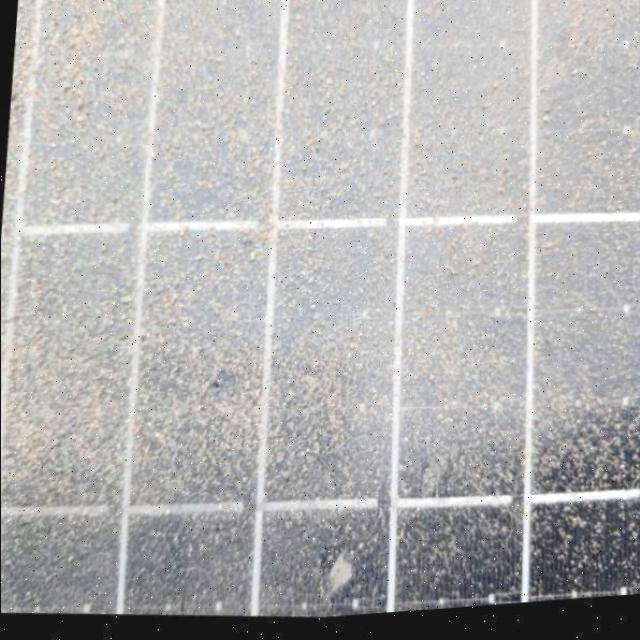Anomaly Solar Panel: (0, 6, 640, 640)
Surface Contaminant: (0, 44, 640, 622)
